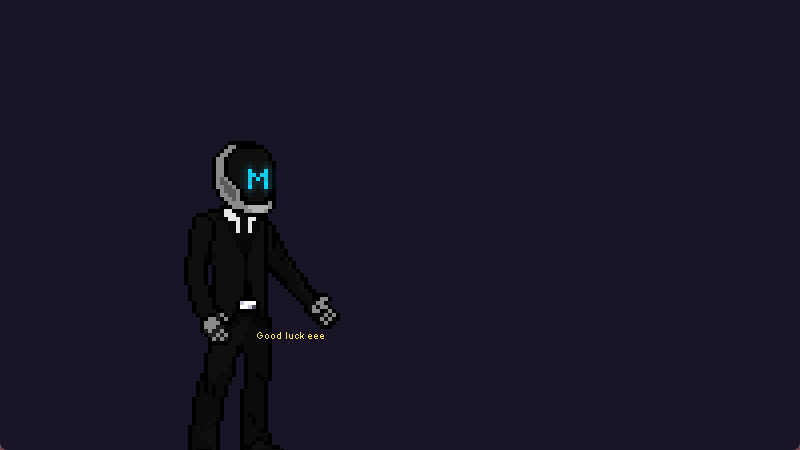next_screen_stop: (3, 5, 796, 446)
